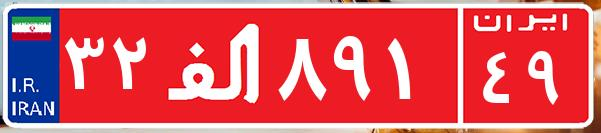1: (385, 28, 445, 110)
2: (110, 28, 158, 105)
3: (57, 26, 110, 107)
4: (475, 38, 525, 113)
8: (273, 28, 330, 110)
9: (330, 28, 385, 110), (525, 38, 570, 115)
الف: (158, 15, 273, 115)
